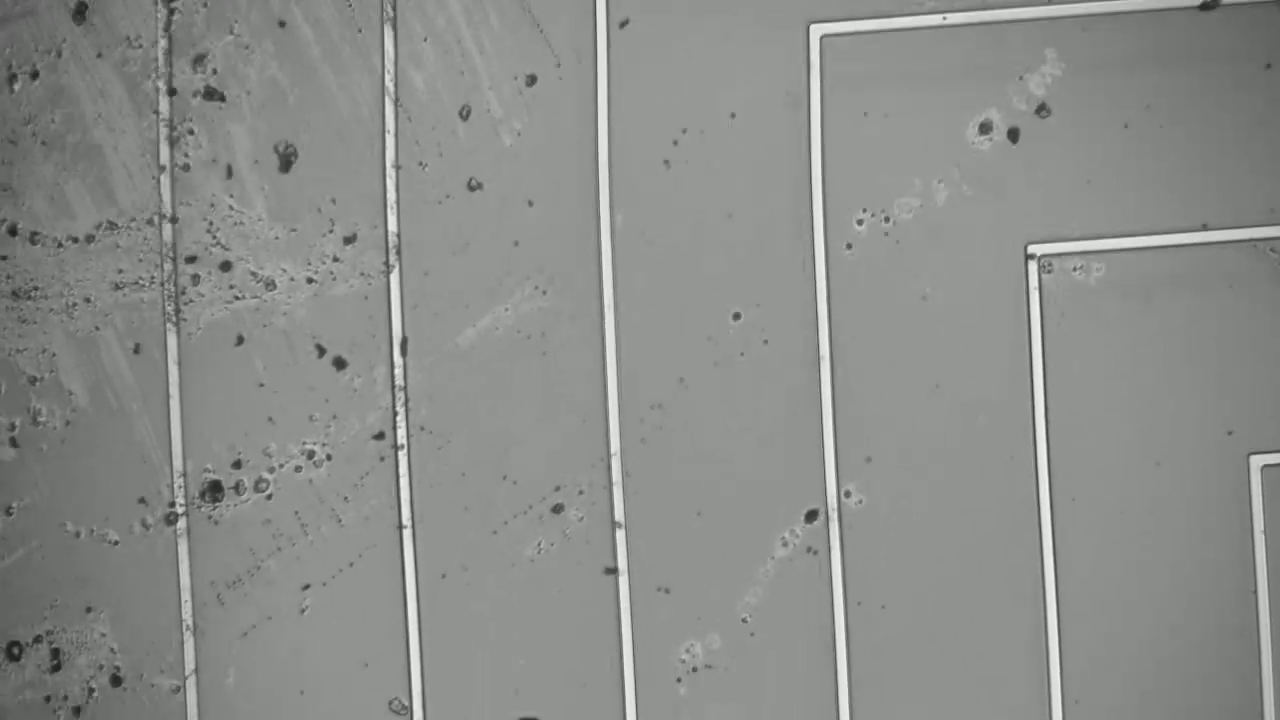stains_enbedded: (154, 506, 191, 532), (1191, 1, 1236, 14)
